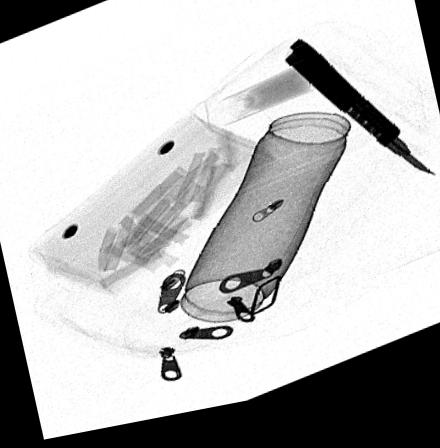Knife: (282, 49, 434, 193)
